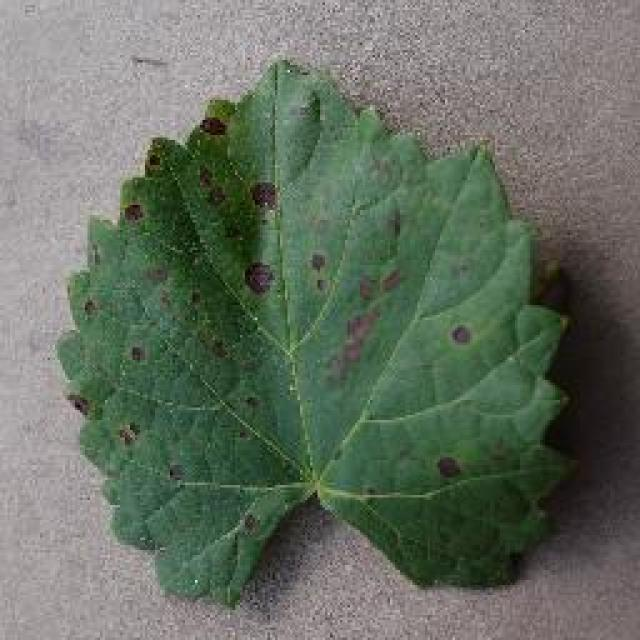Grape___Black_rot: (51, 61, 585, 614)
